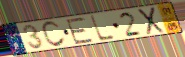2: (118, 11, 143, 37)
3: (22, 23, 45, 51)
C: (41, 20, 67, 48)
E: (64, 16, 95, 46)
L: (89, 14, 116, 43)
X: (137, 6, 166, 36)
